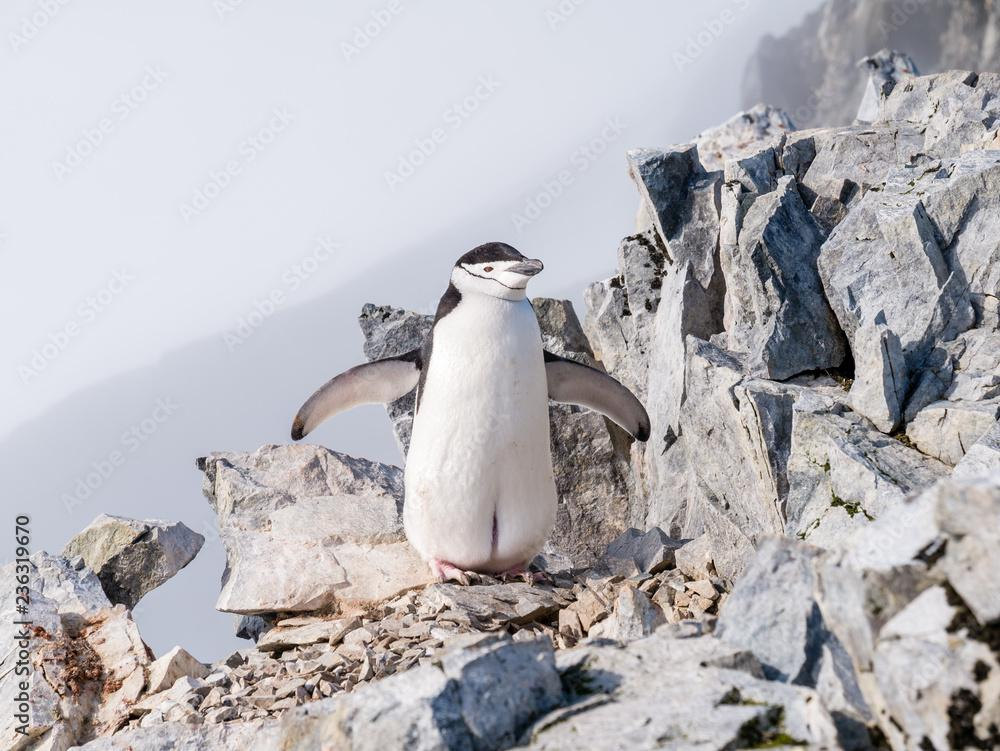chinstrap: (294, 189, 650, 626)
